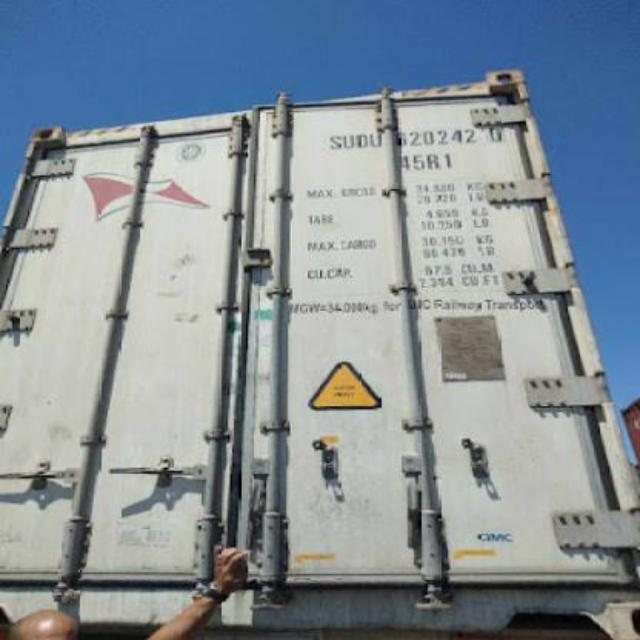0: (422, 124, 436, 146), (490, 121, 500, 141)
2: (436, 122, 449, 146), (464, 121, 476, 142), (408, 125, 420, 145)
4: (452, 122, 464, 146)
6: (396, 128, 408, 148)
D: (356, 126, 368, 150)
S: (328, 127, 340, 153)
U: (368, 126, 384, 150), (341, 127, 354, 151)
